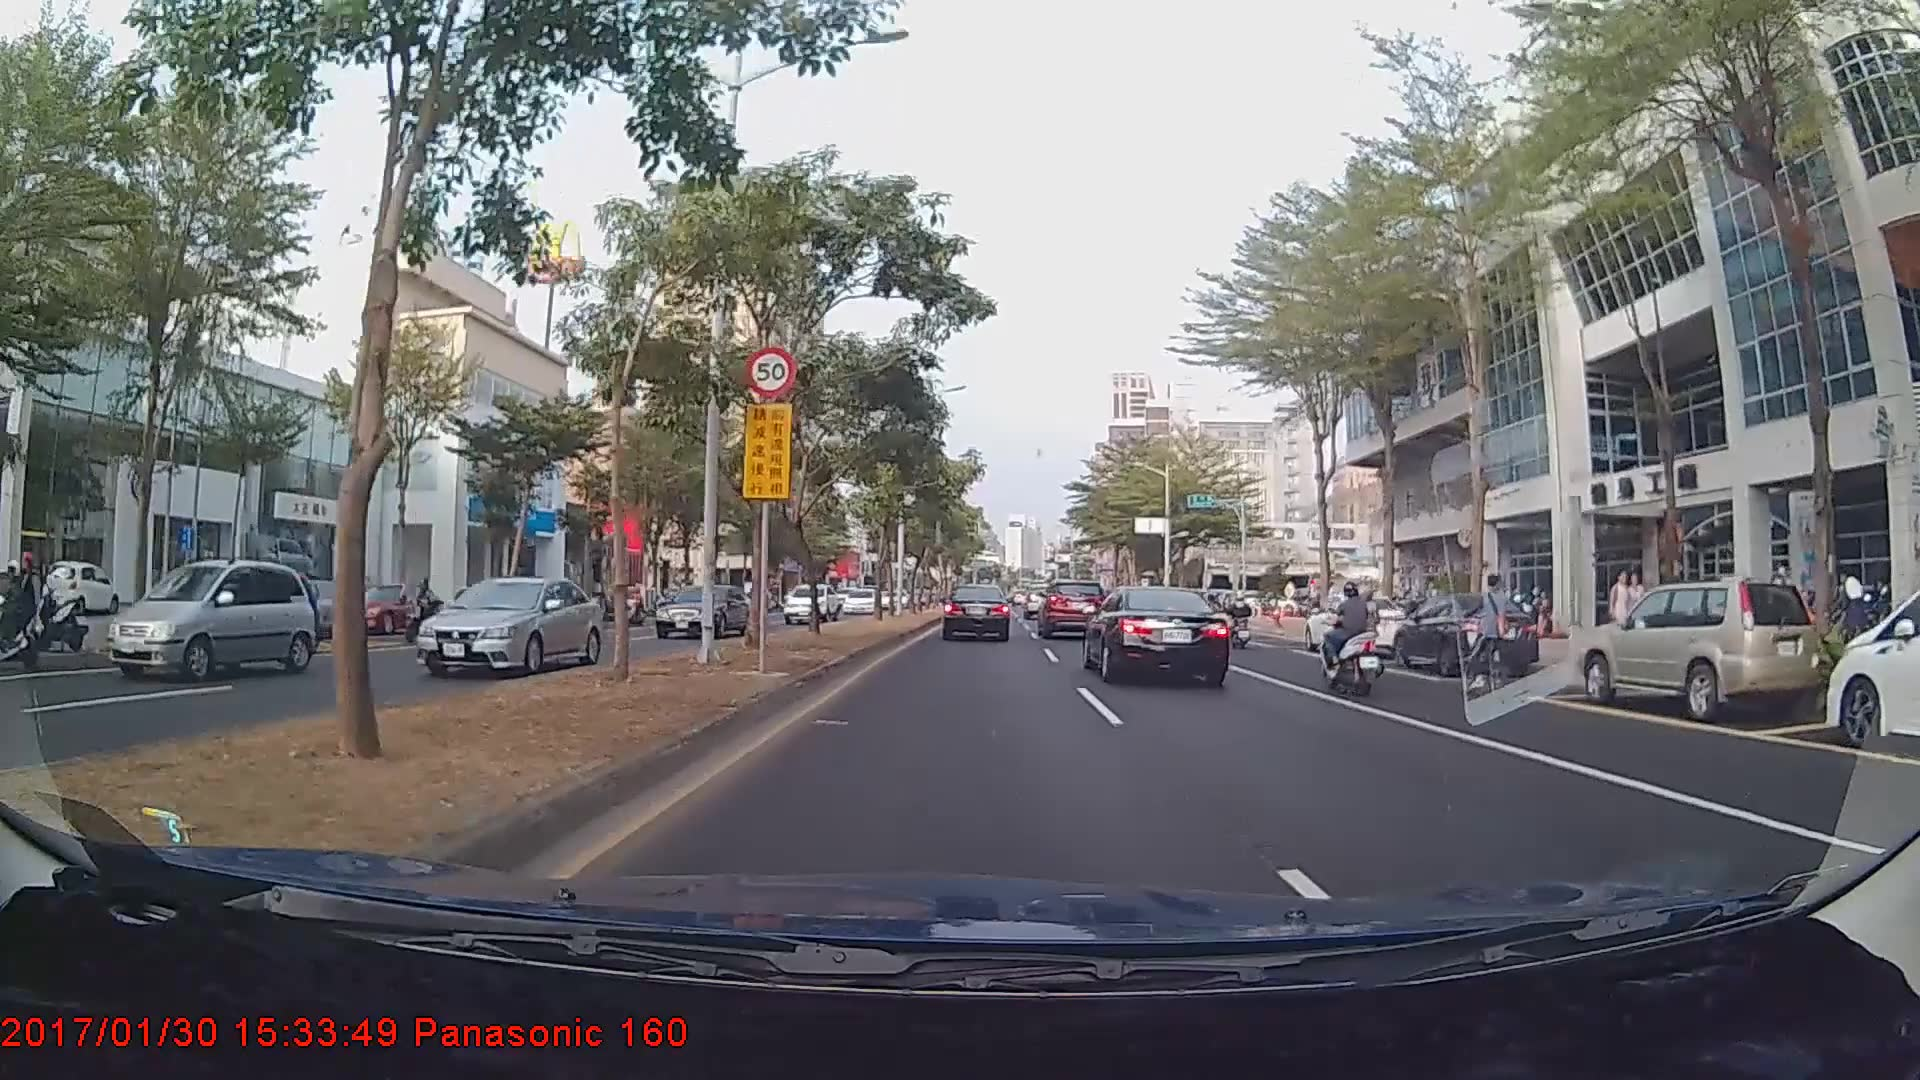pedestrian: (1609, 571, 1635, 654)
rider: (1312, 578, 1393, 700), (1455, 574, 1524, 704), (1, 551, 61, 670), (1353, 584, 1406, 677), (1223, 593, 1258, 649)
vehicle: (1586, 575, 1814, 720), (104, 558, 315, 683), (412, 575, 605, 677), (1823, 567, 1920, 748), (1082, 578, 1231, 687), (1389, 591, 1539, 676), (1300, 591, 1411, 657), (252, 578, 351, 639), (650, 579, 750, 638), (337, 579, 436, 634), (942, 582, 1012, 642), (1039, 580, 1099, 637), (780, 583, 839, 625), (842, 586, 878, 615)
